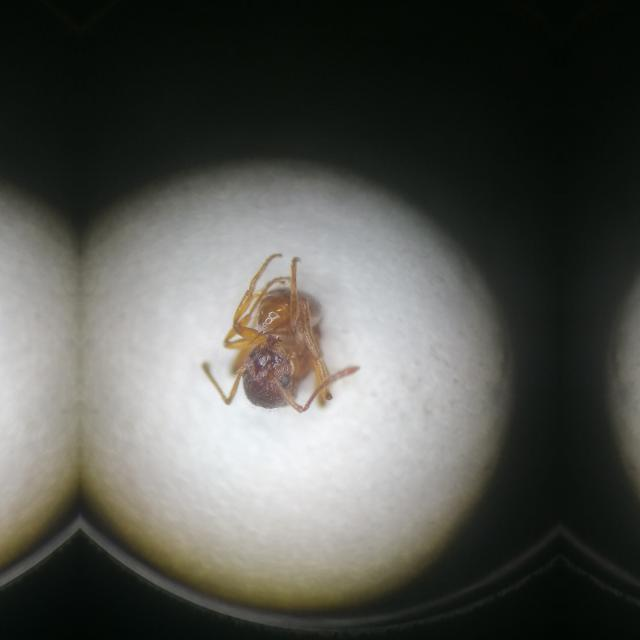Myrmica: (188, 253, 384, 427)
